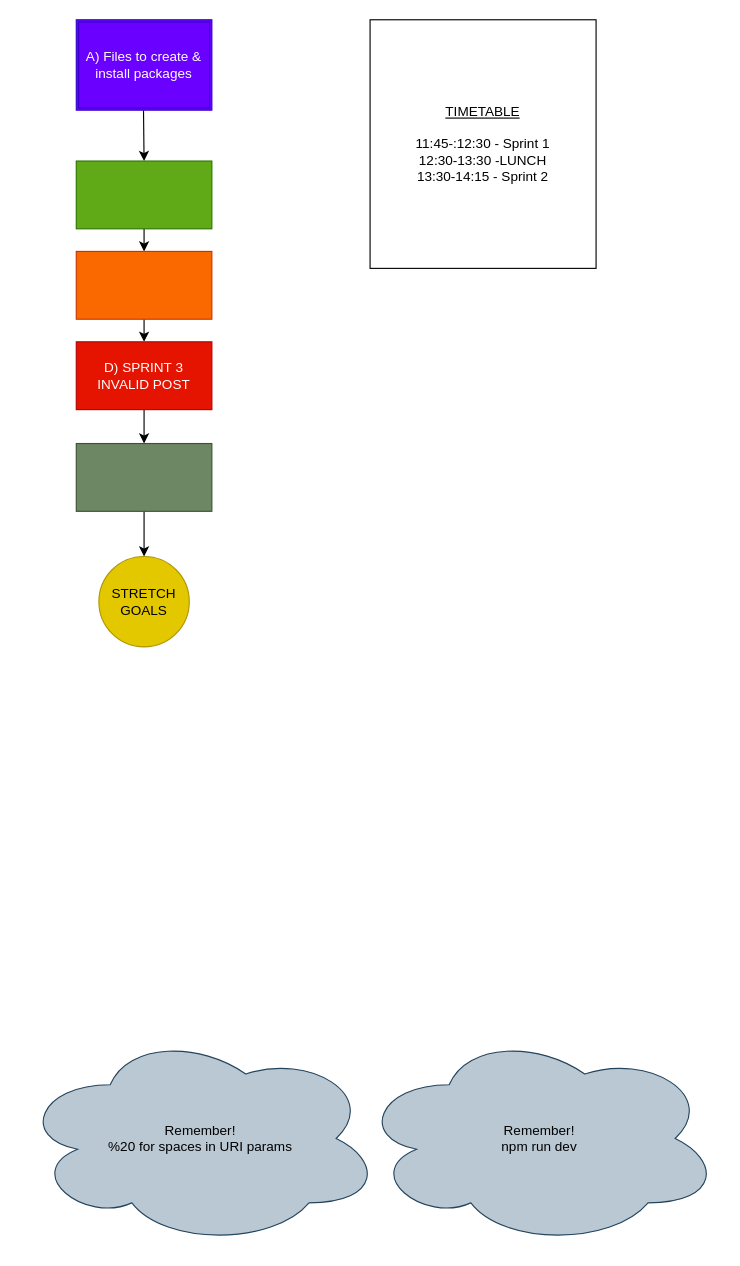
This 740x1266 diagram has some shape labels left out. The box of each missing label's shape, as (x1, y1, x2, y2) in pixels:
B) SPRINT 1 GET & DELETE: (75, 160, 212, 229)
C) SPRINT 2 INVALID DELETE & POST: (75, 250, 212, 319)
E) END TO END TESTING: (75, 442, 212, 511)
